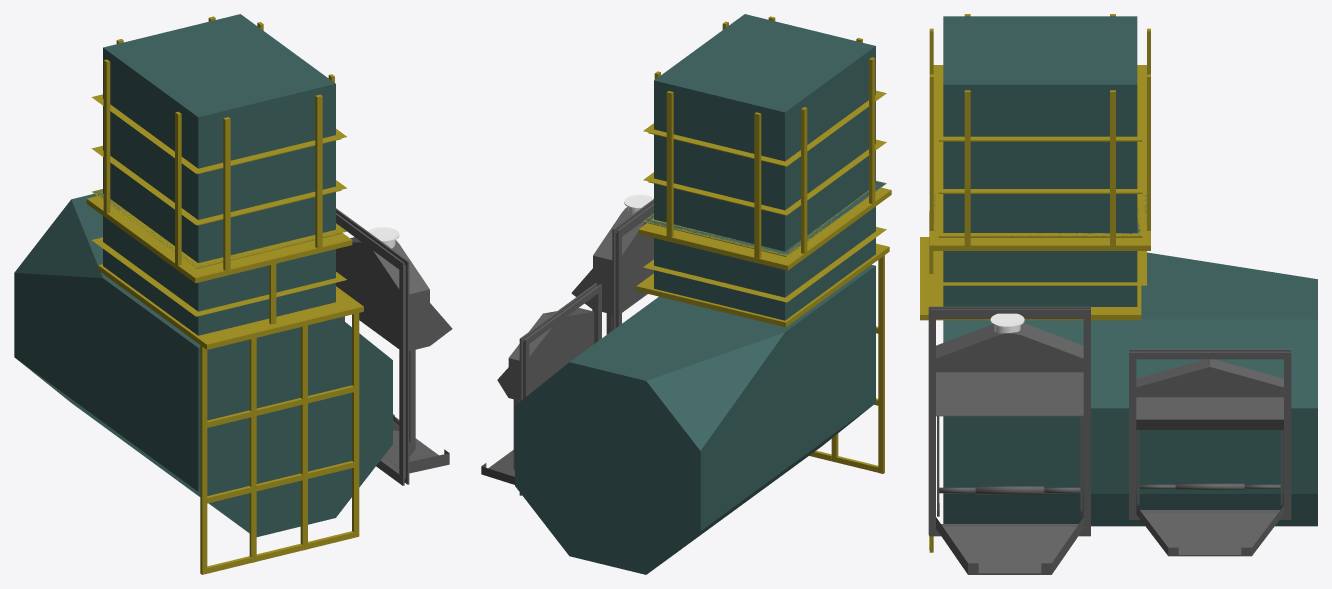
Rendered from torre_fusora.glb.
3 views of the same model, side by side, from view 1: azimuth 30°, elevation 25°; view 2: azimuth 150°, elevation 25°; view 3: azimuth 270°, elevation 25° (orthographic). The views are drawn at different scales.
Visible parts, largest first — view 1: Cylinder.017; view 2: Cylinder.017; view 3: Cylinder.017.
Part boxes in pixels (x1,y1,x2,y2): Cylinder.017: [14, 14, 452, 574]; Cylinder.017: [481, 14, 891, 574]; Cylinder.017: [920, 14, 1317, 574].
Size of the model in its own units: 17.46 by 27.61 by 21.65.
